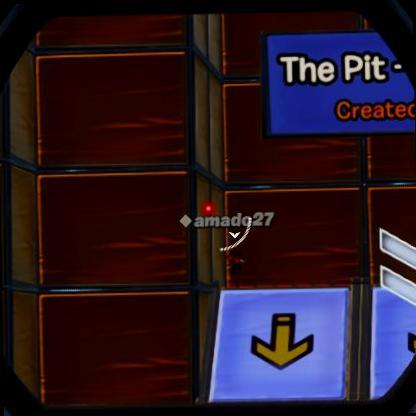person: (222, 245, 244, 282)
